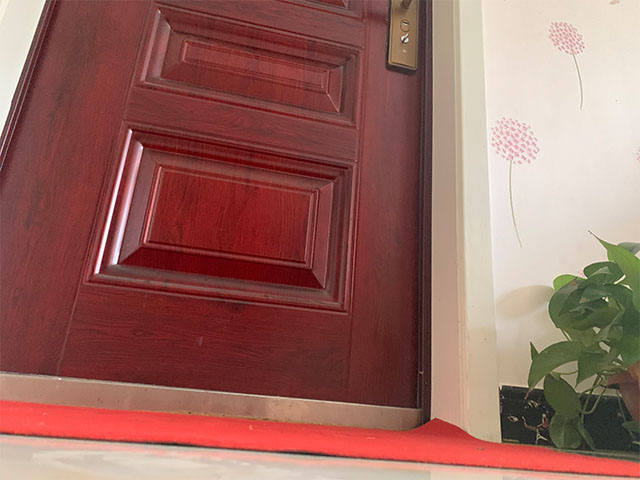carpet: (1, 398, 640, 477)
